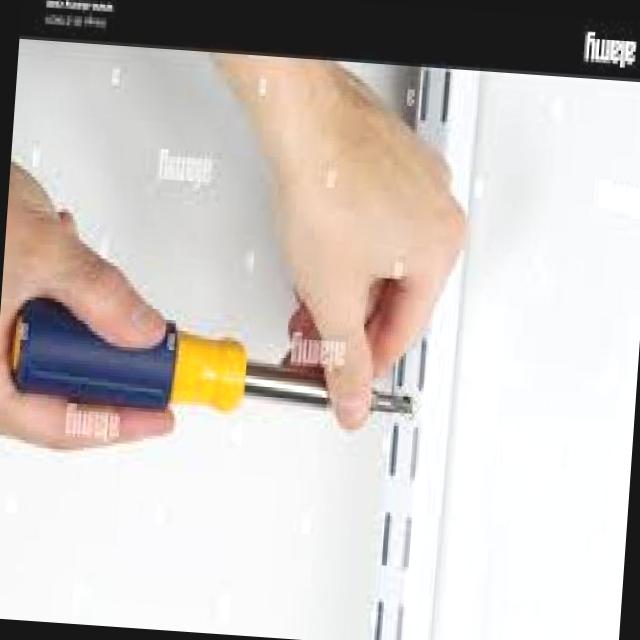screwdriver: (11, 299, 329, 412), (372, 392, 411, 412)
